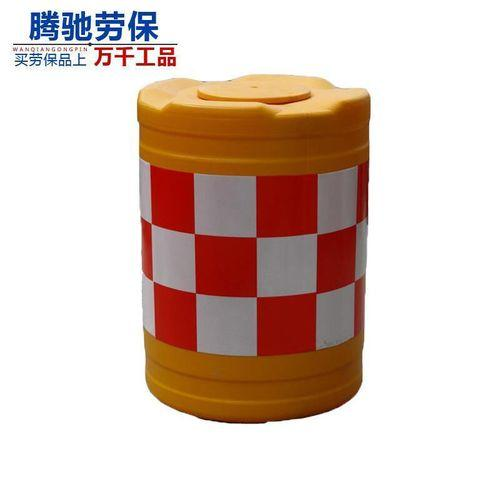sign: (124, 72, 383, 426)
